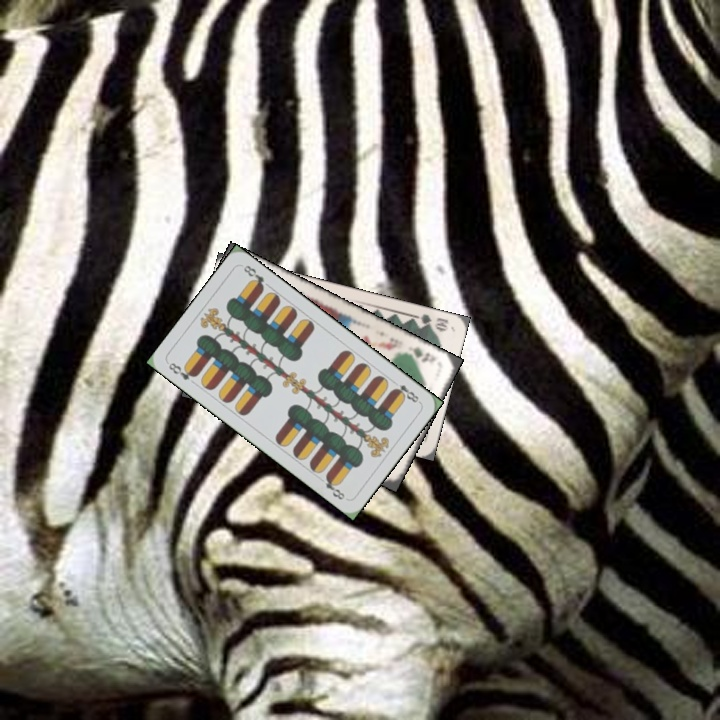E8: (389, 376, 423, 405), (164, 358, 200, 383)
G10: (411, 310, 451, 334)
GK: (402, 342, 438, 365)
